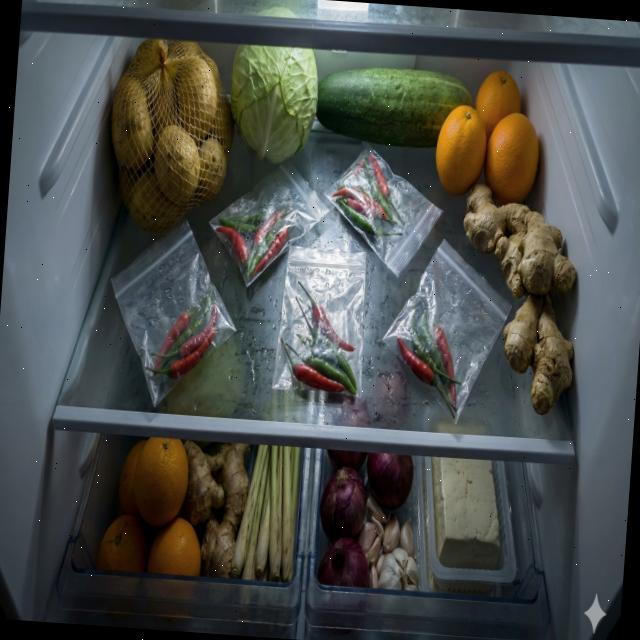cabbage: (225, 42, 321, 168)
chili: (276, 279, 364, 395), (391, 302, 467, 420), (144, 280, 220, 382), (329, 151, 408, 238), (212, 203, 291, 286)
cucumber: (313, 61, 474, 152)
garlic: (354, 492, 424, 591)
ginger: (450, 180, 586, 417), (174, 439, 251, 580)
lemongrass: (230, 442, 302, 583)
onion: (314, 448, 414, 592)
orange: (432, 66, 544, 210), (97, 434, 209, 577)
potato: (102, 36, 240, 238)
tofu: (424, 455, 506, 570)
